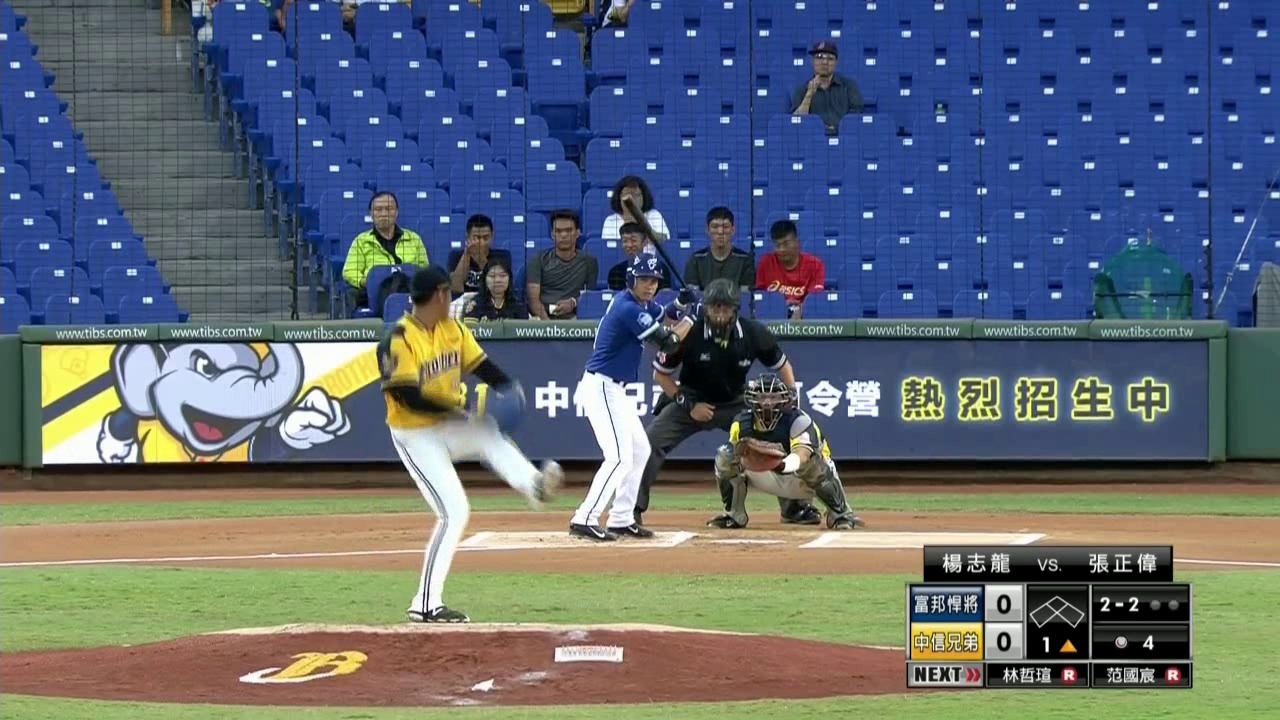base: (1028, 591, 1087, 628)
bat: (615, 190, 692, 293)
out: (1147, 596, 1181, 612)
score1: (985, 585, 1021, 620)
score2: (985, 622, 1023, 659)
session: (1037, 635, 1083, 655)
strikeball: (1096, 594, 1141, 613)
total: (1103, 627, 1162, 650)
